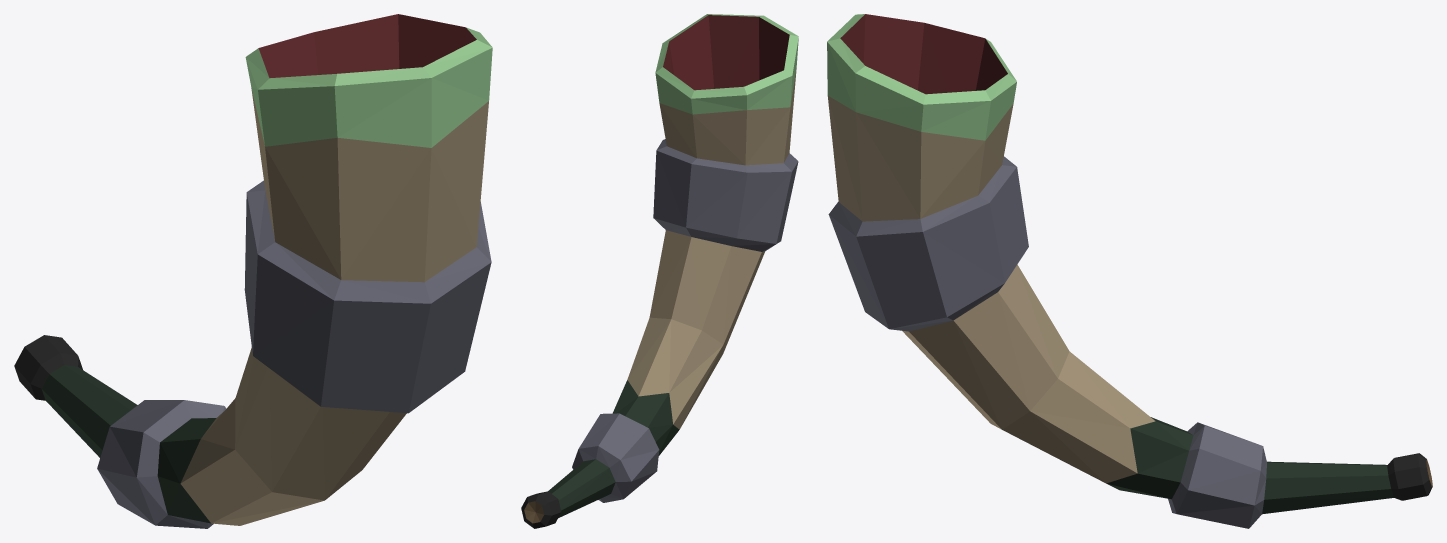
File: SM_Wep_Horn_02.fbx
3 views of the same model, side by side, from view 1: azimuth 30°, elevation 25°; view 2: azimuth 150°, elevation 25°; view 3: azimuth 270°, elevation 25° (orthographic). The views are drawn at different scales.
Parts seen in each view (by area): view 1: SM_Wep_Horn_02; view 2: SM_Wep_Horn_02; view 3: SM_Wep_Horn_02.
Part boxes in pixels (x1=…): SM_Wep_Horn_02: x1=14, y1=14, x2=492, y2=528; SM_Wep_Horn_02: x1=521, y1=14, x2=798, y2=528; SM_Wep_Horn_02: x1=827, y1=14, x2=1432, y2=528.
Size of the model in its own units: 22.89 by 63.01 by 70.73.
